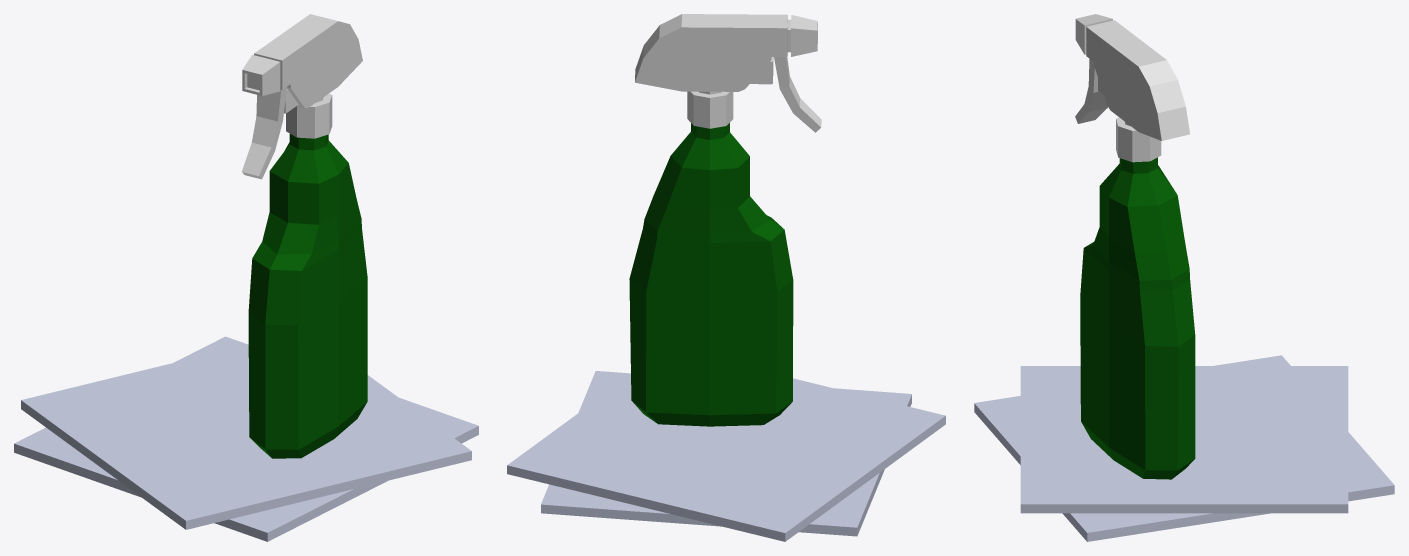
File: spray_detergent_v1.fbx
The picture shows the model from 3 angles, left to right: view 1: azimuth 30°, elevation 25°; view 2: azimuth 150°, elevation 25°; view 3: azimuth 270°, elevation 25°; orthographic projection. The views are drawn at different scales.
Visible parts, largest first — view 1: Cube; view 2: Cube; view 3: Cube.
Boxes of the visible parts, x1,y1,x2,y2 form: Cube: [14, 14, 478, 541]; Cube: [507, 14, 945, 541]; Cube: [974, 14, 1394, 541].
Size of the model in its own units: 437 by 481 by 437.
